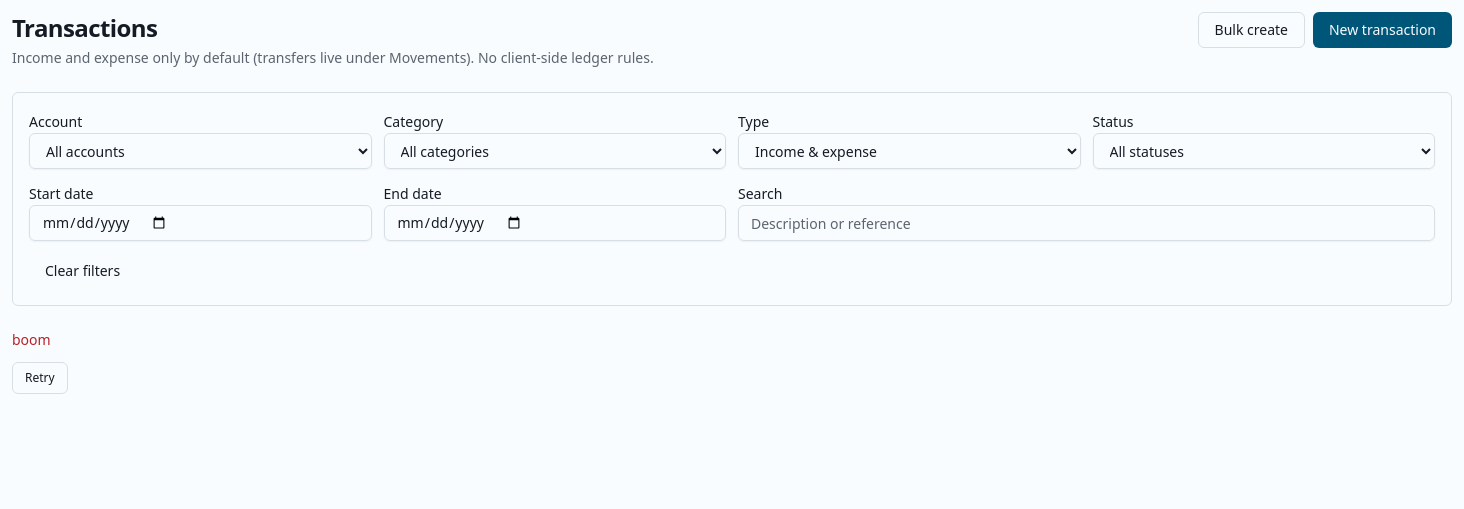
Scenario: TransactionsPage › surfaces API errors with retry
Expected: the message shows "boom", [12, 330, 51, 349]
What coordinates should you click on to do the following:
click the button "Retry"
I would click on:
 (40, 378)
Its box is [12, 362, 68, 394].
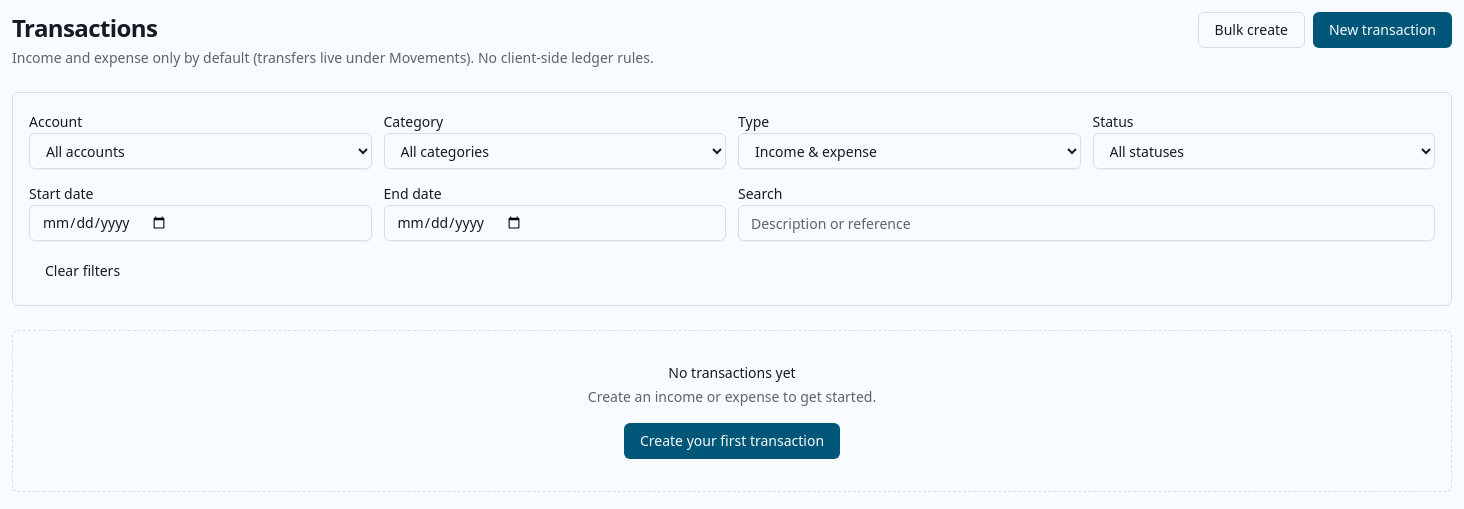
Now the text "No transactions yet" is shown, box [668, 363, 796, 382]
